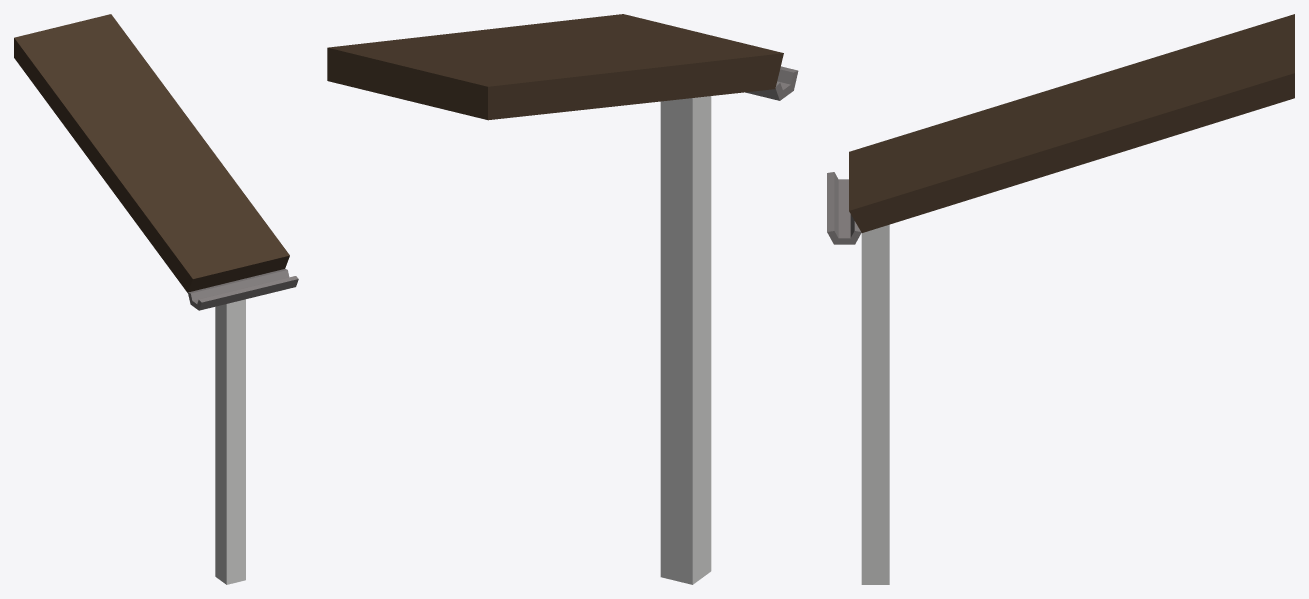
Rendered from buildings_house-roof-porch-edge-1x1m.fbx.
The picture shows the model from 3 angles, left to right: view 1: azimuth 30°, elevation 25°; view 2: azimuth 150°, elevation 25°; view 3: azimuth 270°, elevation 25°; orthographic projection. The views are drawn at different scales.
Parts seen in each view (by area): view 1: buildings_house_roof_porch_edge_1x1m; view 2: buildings_house_roof_porch_edge_1x1m; view 3: buildings_house_roof_porch_edge_1x1m.
Boxes of the visible parts, bbox=[...] form: buildings_house_roof_porch_edge_1x1m: bbox=[14, 14, 298, 584]; buildings_house_roof_porch_edge_1x1m: bbox=[327, 14, 798, 584]; buildings_house_roof_porch_edge_1x1m: bbox=[827, 14, 1294, 584].
Size of the model in its own units: 47.29 by 200 by 158.
